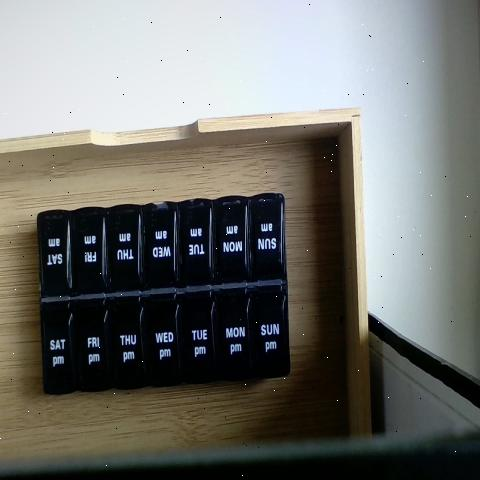FRI-am: (73, 211, 107, 298)
FRI-pm: (77, 310, 112, 394)
MON-am: (213, 197, 250, 280)
MON-pm: (218, 290, 256, 375)
SAT-am: (39, 216, 75, 306)
SAT-pm: (43, 317, 76, 400)
SUN-am: (250, 191, 284, 277)
SUN-pm: (256, 284, 290, 371)
THU-am: (107, 206, 143, 294)
THU-pm: (114, 306, 146, 390)
TUE-am: (181, 202, 214, 281)
TUE-pm: (182, 293, 220, 377)
WED-am: (145, 203, 180, 289)
WED-pm: (148, 303, 183, 387)
